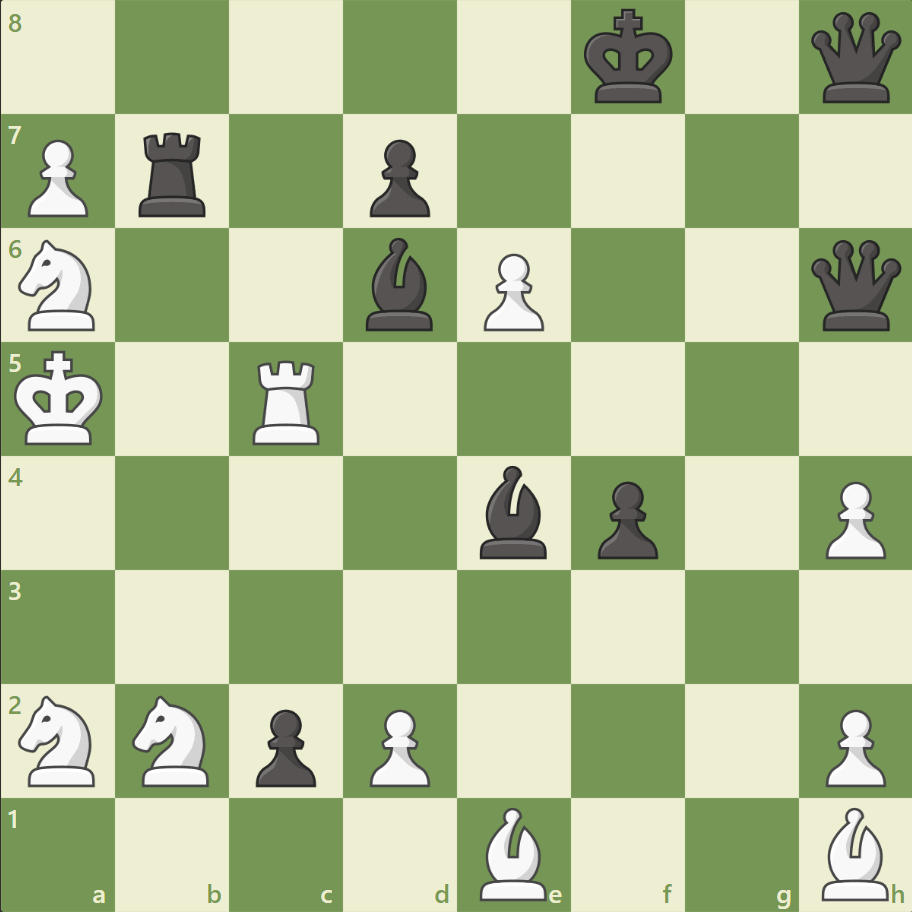B: (471, 801, 555, 904), (812, 801, 896, 904)
K: (11, 344, 111, 452)
N: (124, 688, 222, 791), (11, 234, 108, 337), (11, 688, 108, 791)
P: (20, 132, 95, 223), (474, 246, 549, 337), (815, 473, 889, 564), (361, 700, 435, 791), (815, 700, 889, 791)
R: (246, 352, 329, 449)
b: (358, 233, 442, 336), (471, 460, 555, 563)
k: (579, 4, 679, 112)
p: (247, 700, 322, 791), (361, 132, 435, 223), (588, 473, 662, 564)
q: (805, 9, 904, 108), (805, 236, 904, 335)
r: (133, 125, 215, 222)
